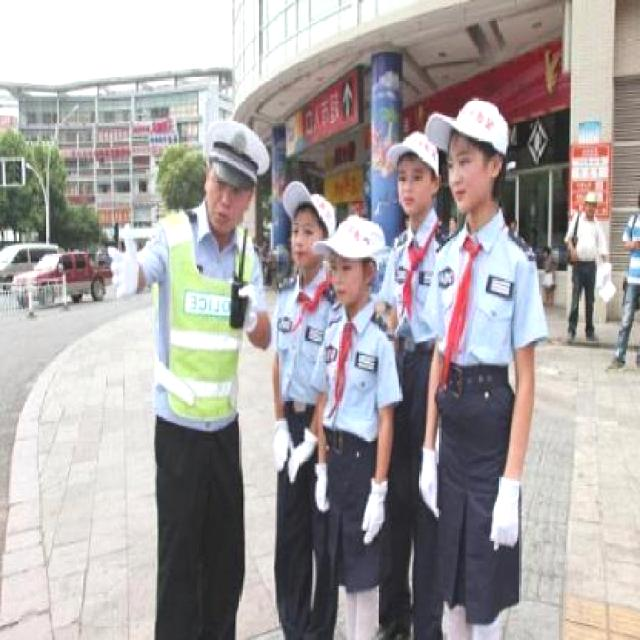face_nomask: (442, 142, 496, 209), (197, 177, 252, 232), (394, 155, 435, 217), (283, 217, 320, 271), (326, 260, 366, 306)
hand_glove: (108, 220, 140, 303), (488, 483, 522, 552), (224, 278, 258, 337), (358, 491, 389, 546), (420, 454, 443, 521), (286, 437, 316, 483), (270, 418, 292, 471), (314, 468, 331, 515)
hand_noglove: (572, 246, 582, 260), (634, 235, 640, 251)
person: (114, 123, 275, 640), (429, 100, 569, 640), (260, 178, 342, 640), (311, 206, 391, 640), (380, 117, 440, 640)
vest: (156, 206, 264, 432)
